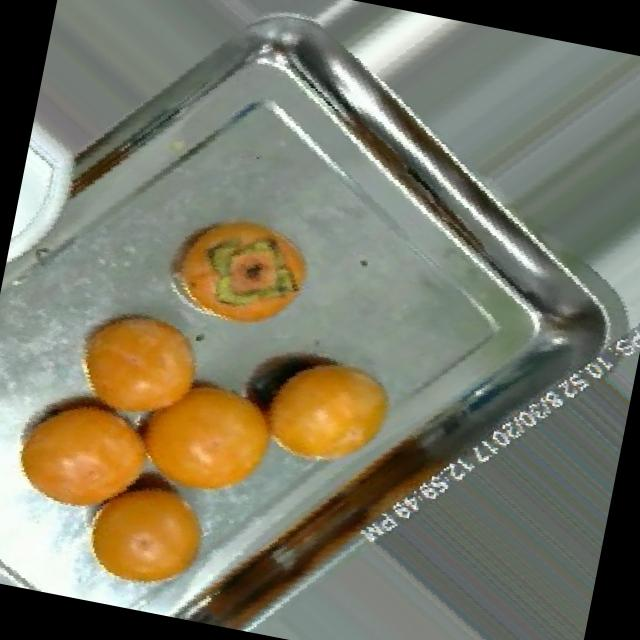Fruit: (94, 336, 308, 524), (228, 322, 427, 502), (136, 182, 336, 354), (0, 360, 176, 543), (44, 276, 232, 447), (54, 452, 238, 618)
